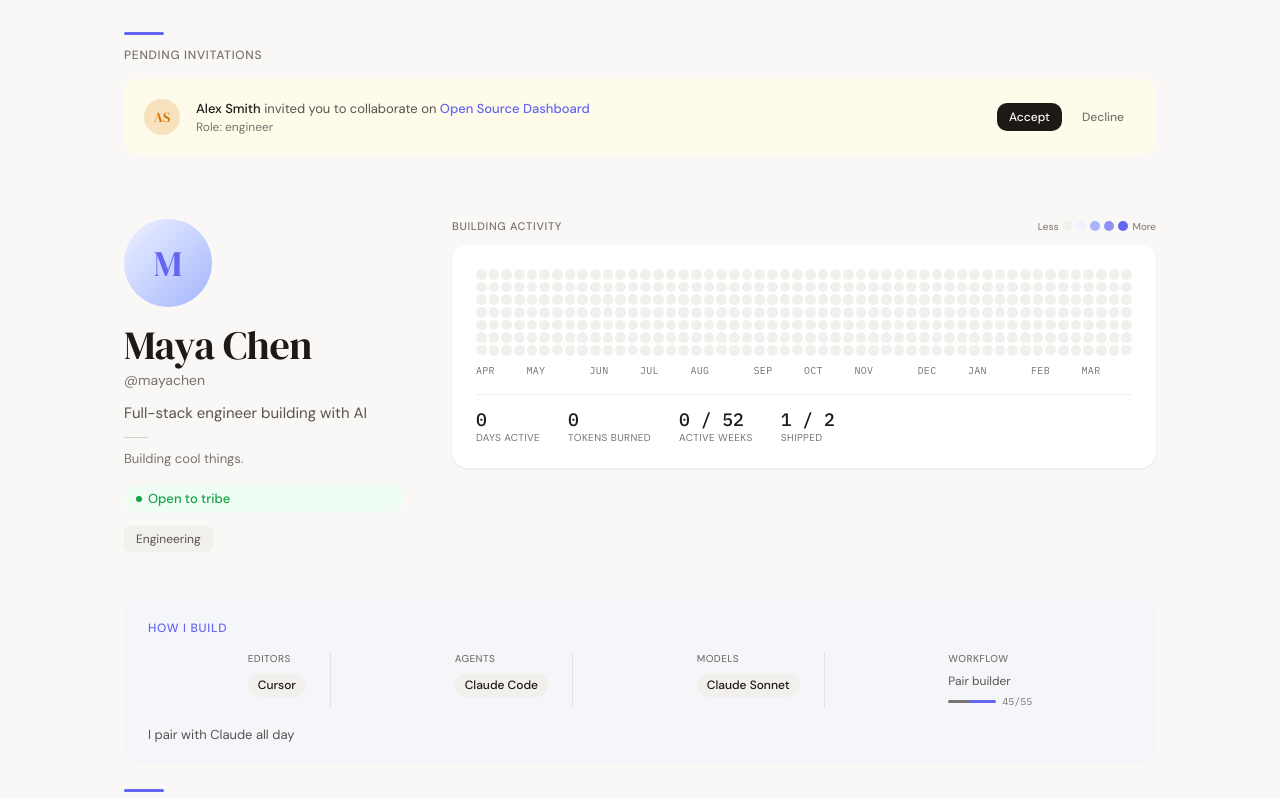
ProfilePage — Pending Invitations › removes invitation card after clicking Decline
Expected: the text "Pending Invitations" is shown, [124,47,262,63]
Click the button "Decline". click: click(1103, 117)
box: [1070,103,1136,131]
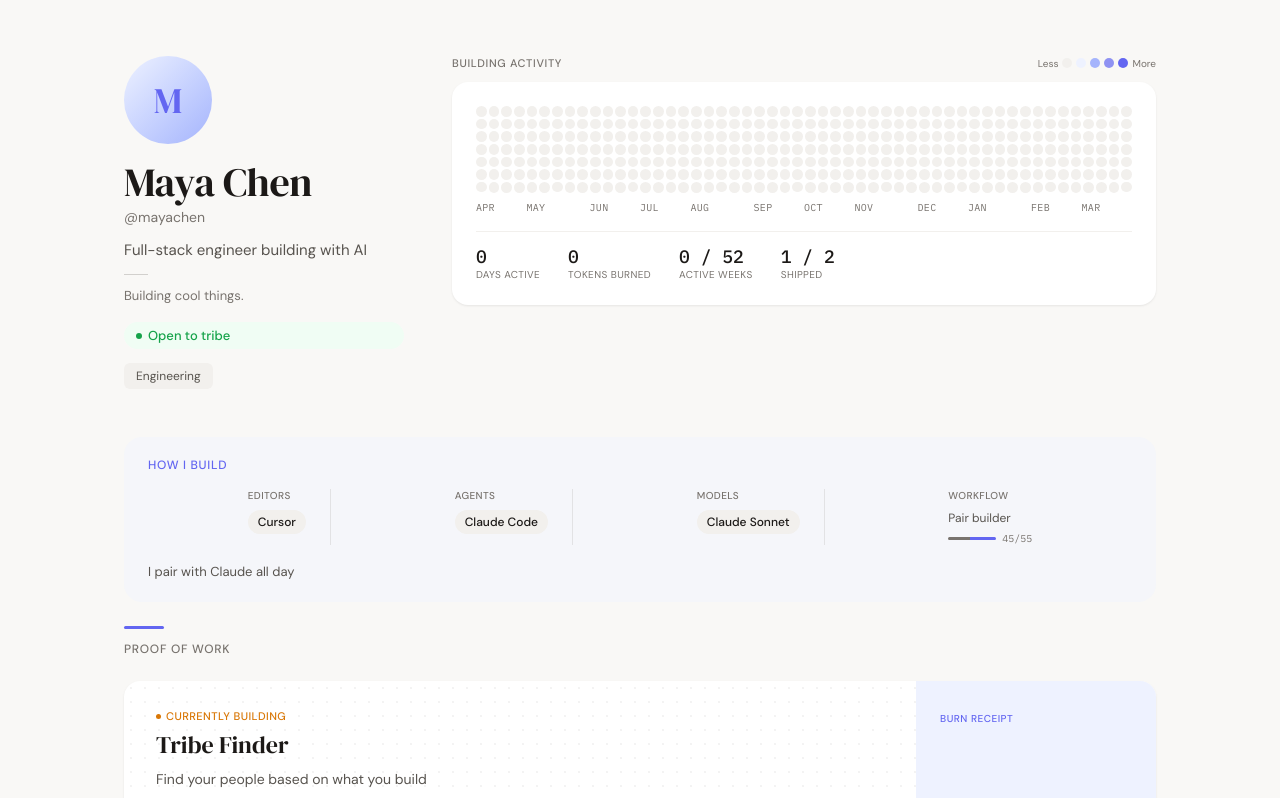
Expected: the element with test id "invitation-card" is gone
